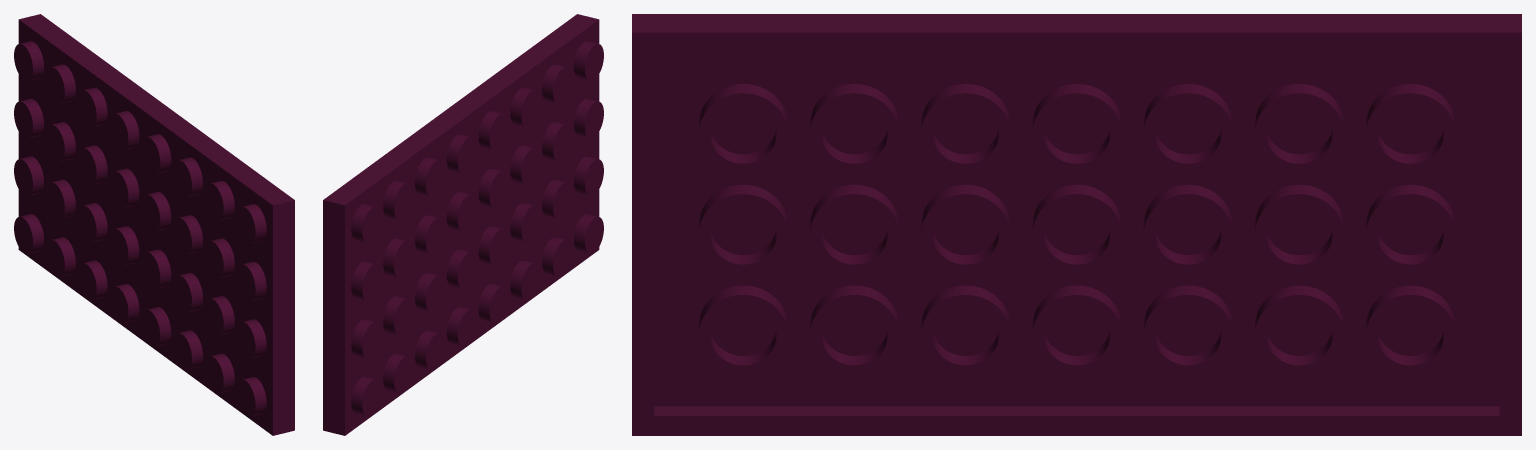
Rendered from plate4*8_magenta.obj.
3 renders of one model, left to right at view 1: azimuth 30°, elevation 25°; view 2: azimuth 150°, elevation 25°; view 3: azimuth 270°, elevation 25°, orthographic. The views are drawn at different scales.
Size of the model in its own units: 12 by 80 by 160.
